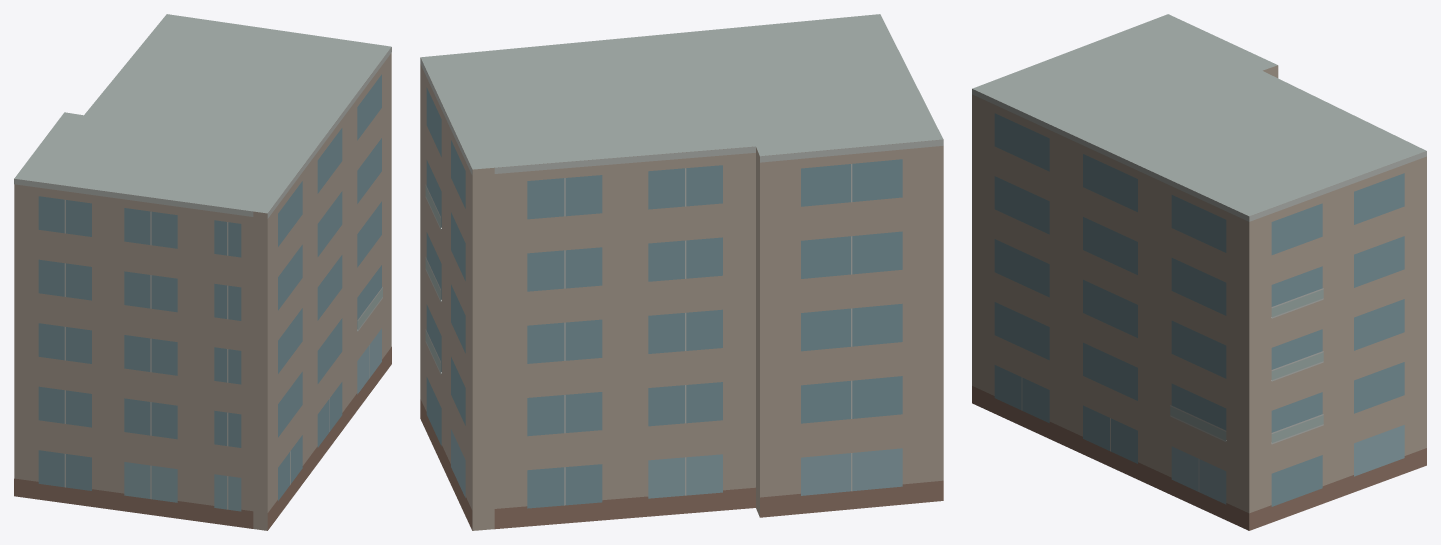
The model's file is survey-upis-32832698.glb.
3 views of the same model, side by side, from view 1: azimuth 30°, elevation 25°; view 2: azimuth 150°, elevation 25°; view 3: azimuth 270°, elevation 25° (orthographic). The views are drawn at different scales.
Parts seen in each view (by area): view 1: survey-upis-32832698.tmp; view 2: survey-upis-32832698.tmp; view 3: survey-upis-32832698.tmp.
Part boxes in pixels (x1=…): survey-upis-32832698.tmp: x1=14, y1=14, x2=391, y2=530; survey-upis-32832698.tmp: x1=420, y1=14, x2=943, y2=530; survey-upis-32832698.tmp: x1=972, y1=14, x2=1426, y2=530.
Size of the model in its own units: 19.12 by 13.85 by 18.16.
